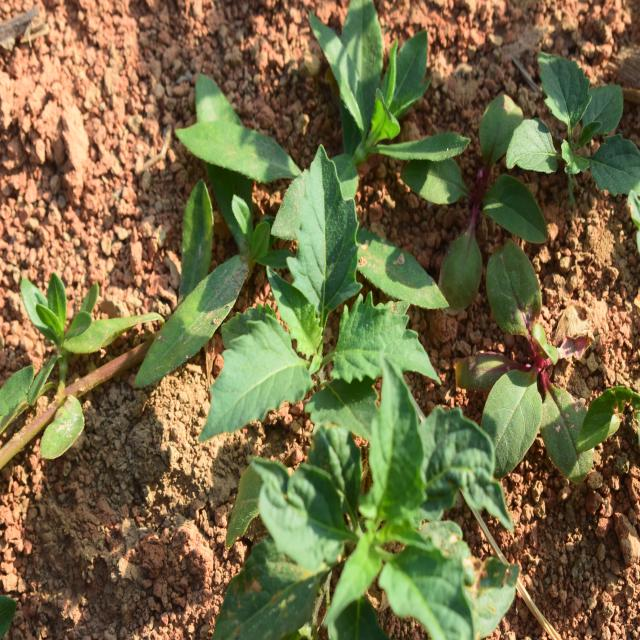Black_nightshade: (218, 165, 412, 448), (235, 410, 495, 612)
